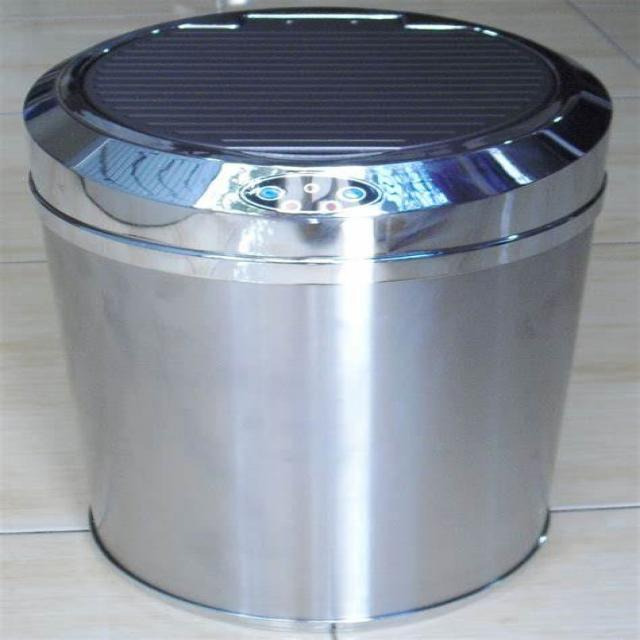garbage container: (9, 6, 629, 632)
